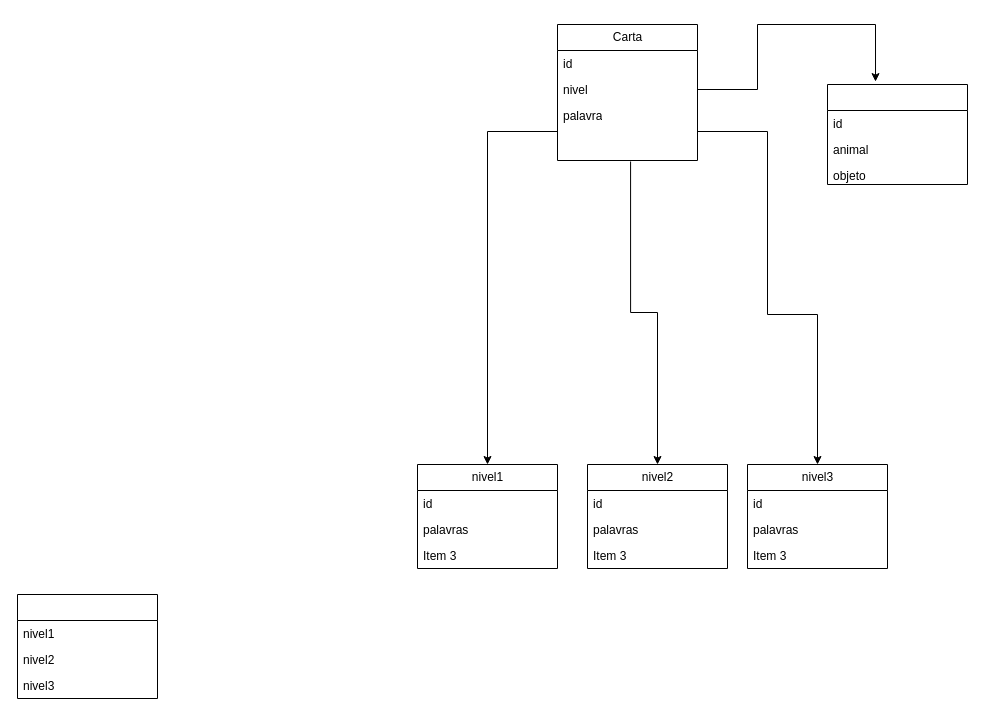
The diagram is 985 pixels wide and 719 high, and some of its shapes have lost their labels. The box of each missing label's shape, as (x1, y1, x2, y2) in pixels:
Categoria: (826, 84, 968, 184)
Dificuldade: (16, 594, 158, 698)
